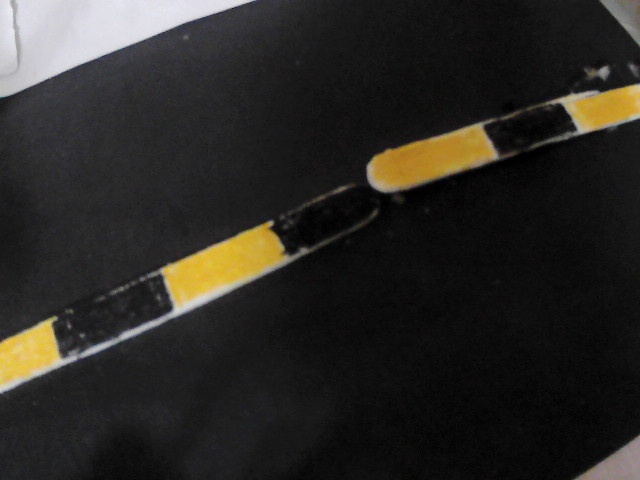black_strip: (55, 266, 171, 350), (274, 177, 380, 254), (491, 87, 572, 149)
mixed_lane: (0, 62, 640, 381)
yellow_strip: (162, 224, 288, 312), (371, 119, 488, 186), (0, 315, 60, 390), (572, 80, 640, 132)
